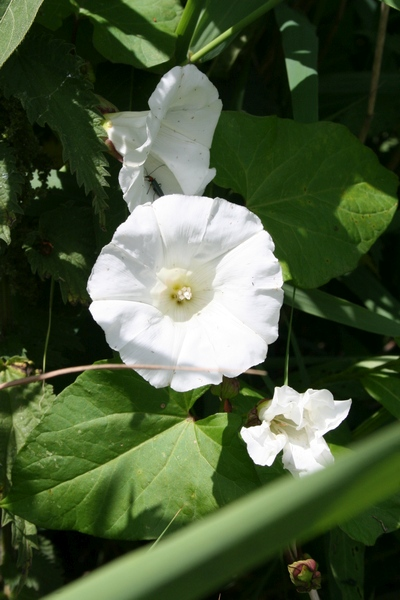haagwinde: (10, 349, 268, 543), (81, 186, 298, 392), (199, 98, 400, 295), (77, 71, 240, 206), (243, 375, 360, 484)
